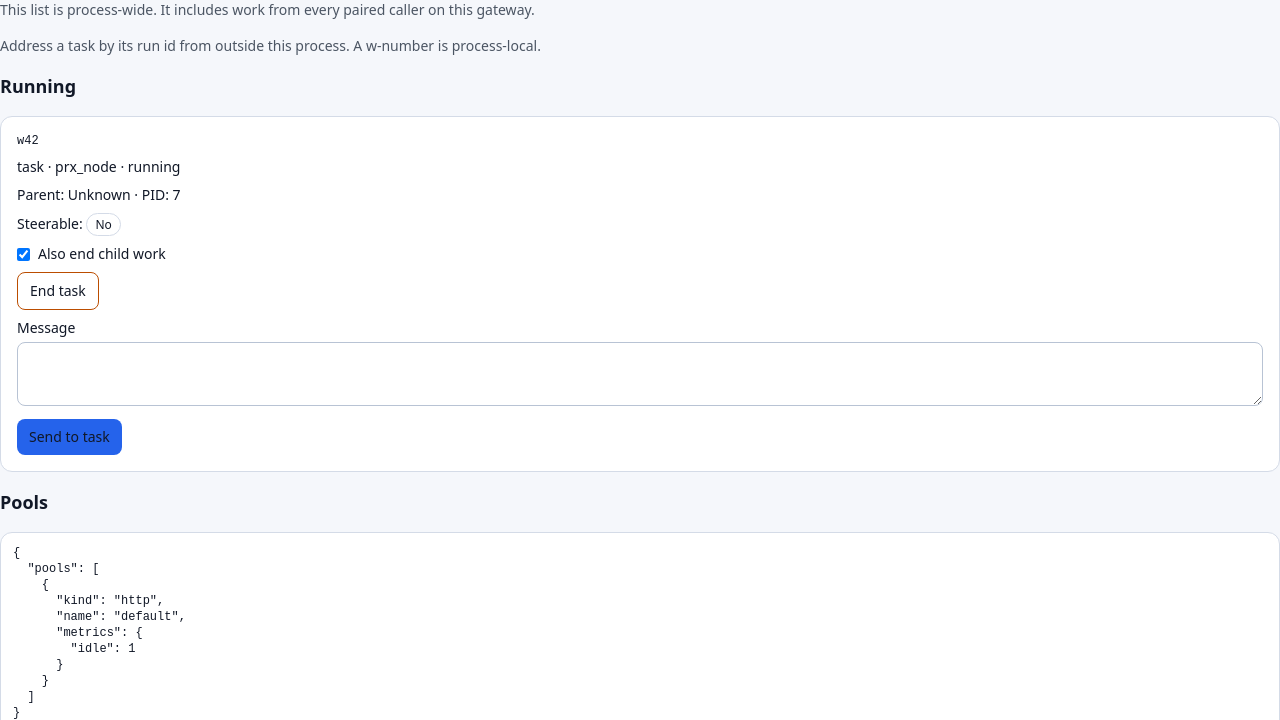
Test: shows a 409 steer refusal on the row and keeps the page available
The image size is (1280, 720).
Expected: the text "w42" is shown, [17, 134, 39, 148]
Type "hold" into the text box. click: (640, 374)
box: [17, 342, 1263, 406]
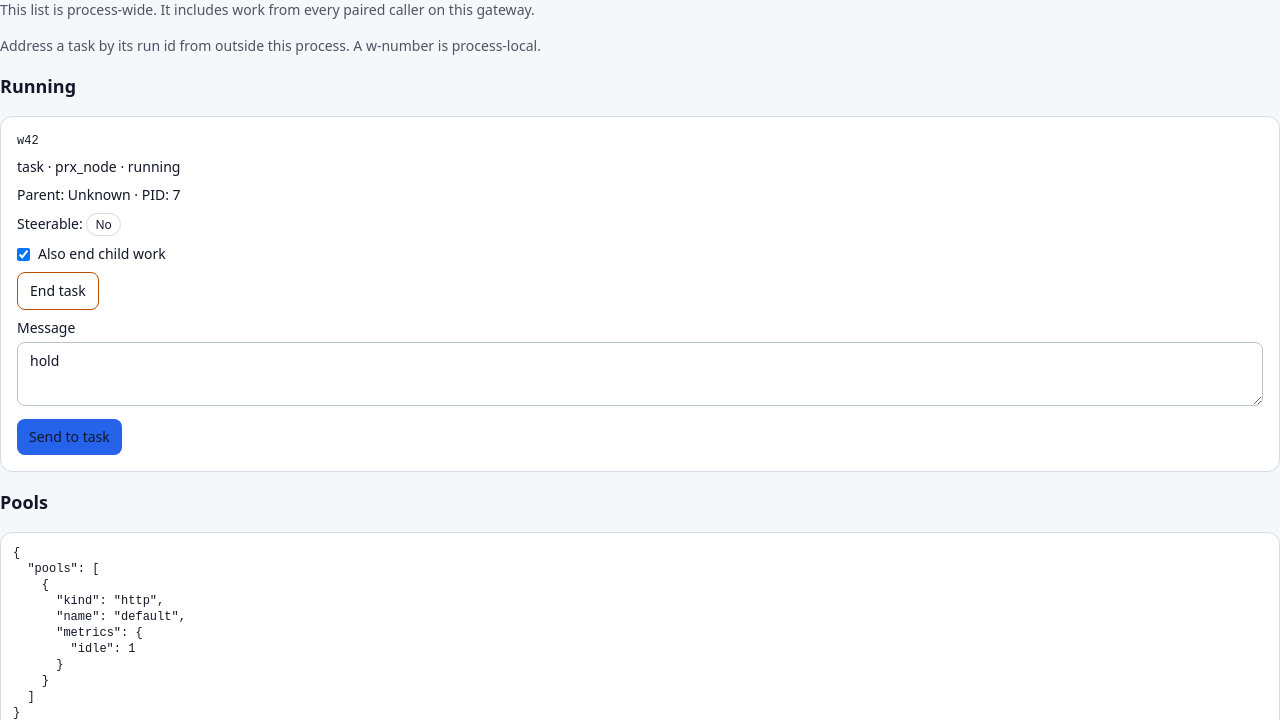
Click the button "Send to task". click: (69, 437)
box: [17, 419, 122, 455]
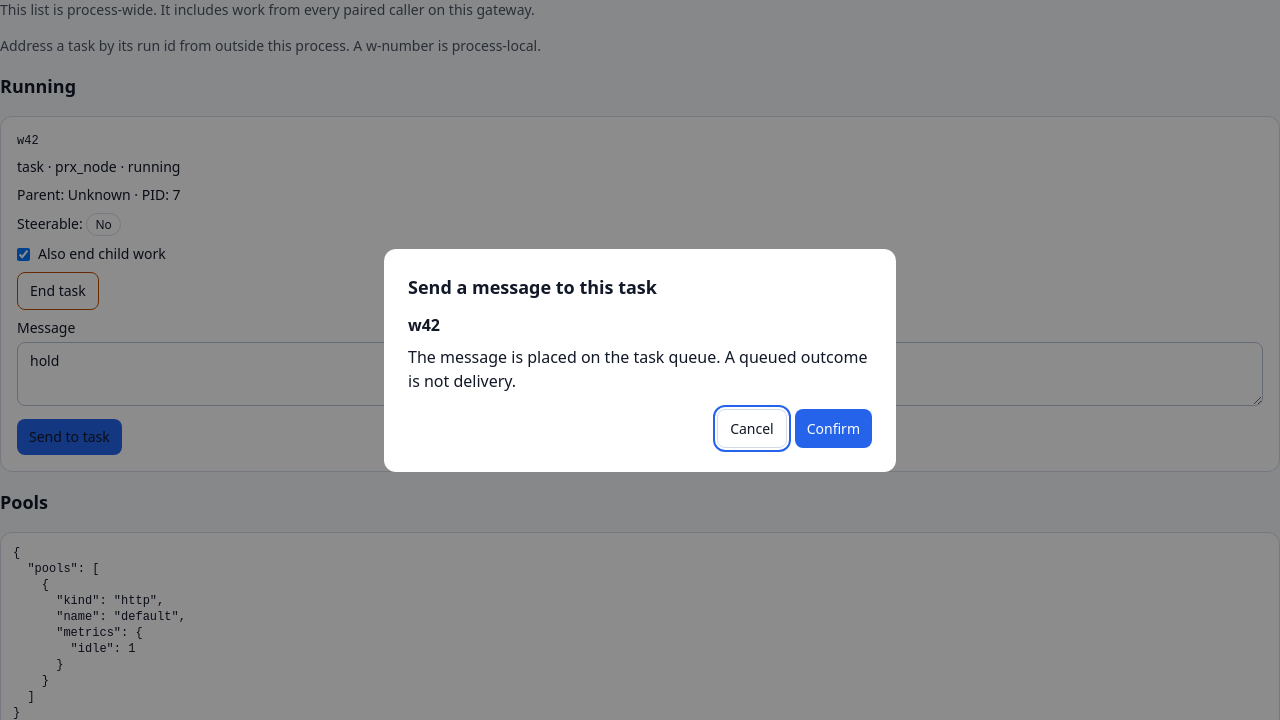
Click the button "Confirm". click: (833, 428)
box: [795, 408, 872, 448]
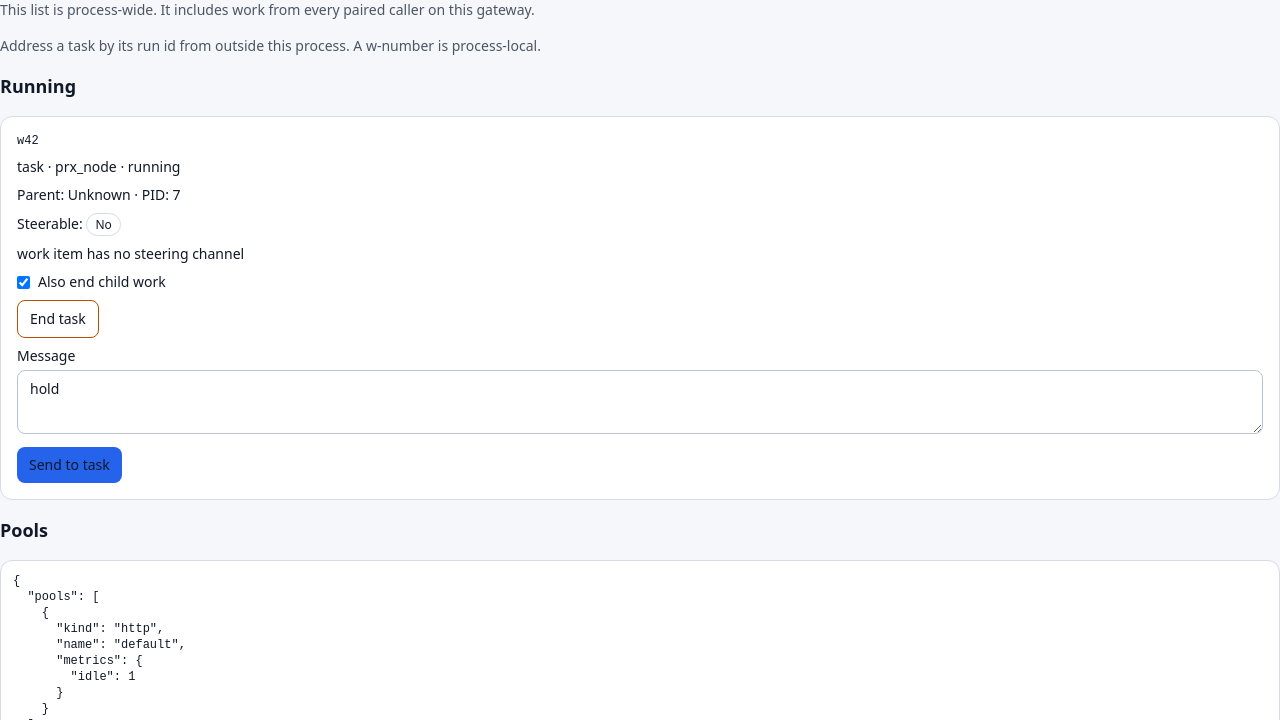
Expected: the heading "Pools" is shown, [0, 518, 48, 542]
Expected: the text "work item has no steering channel" is shown, [17, 244, 244, 263]
